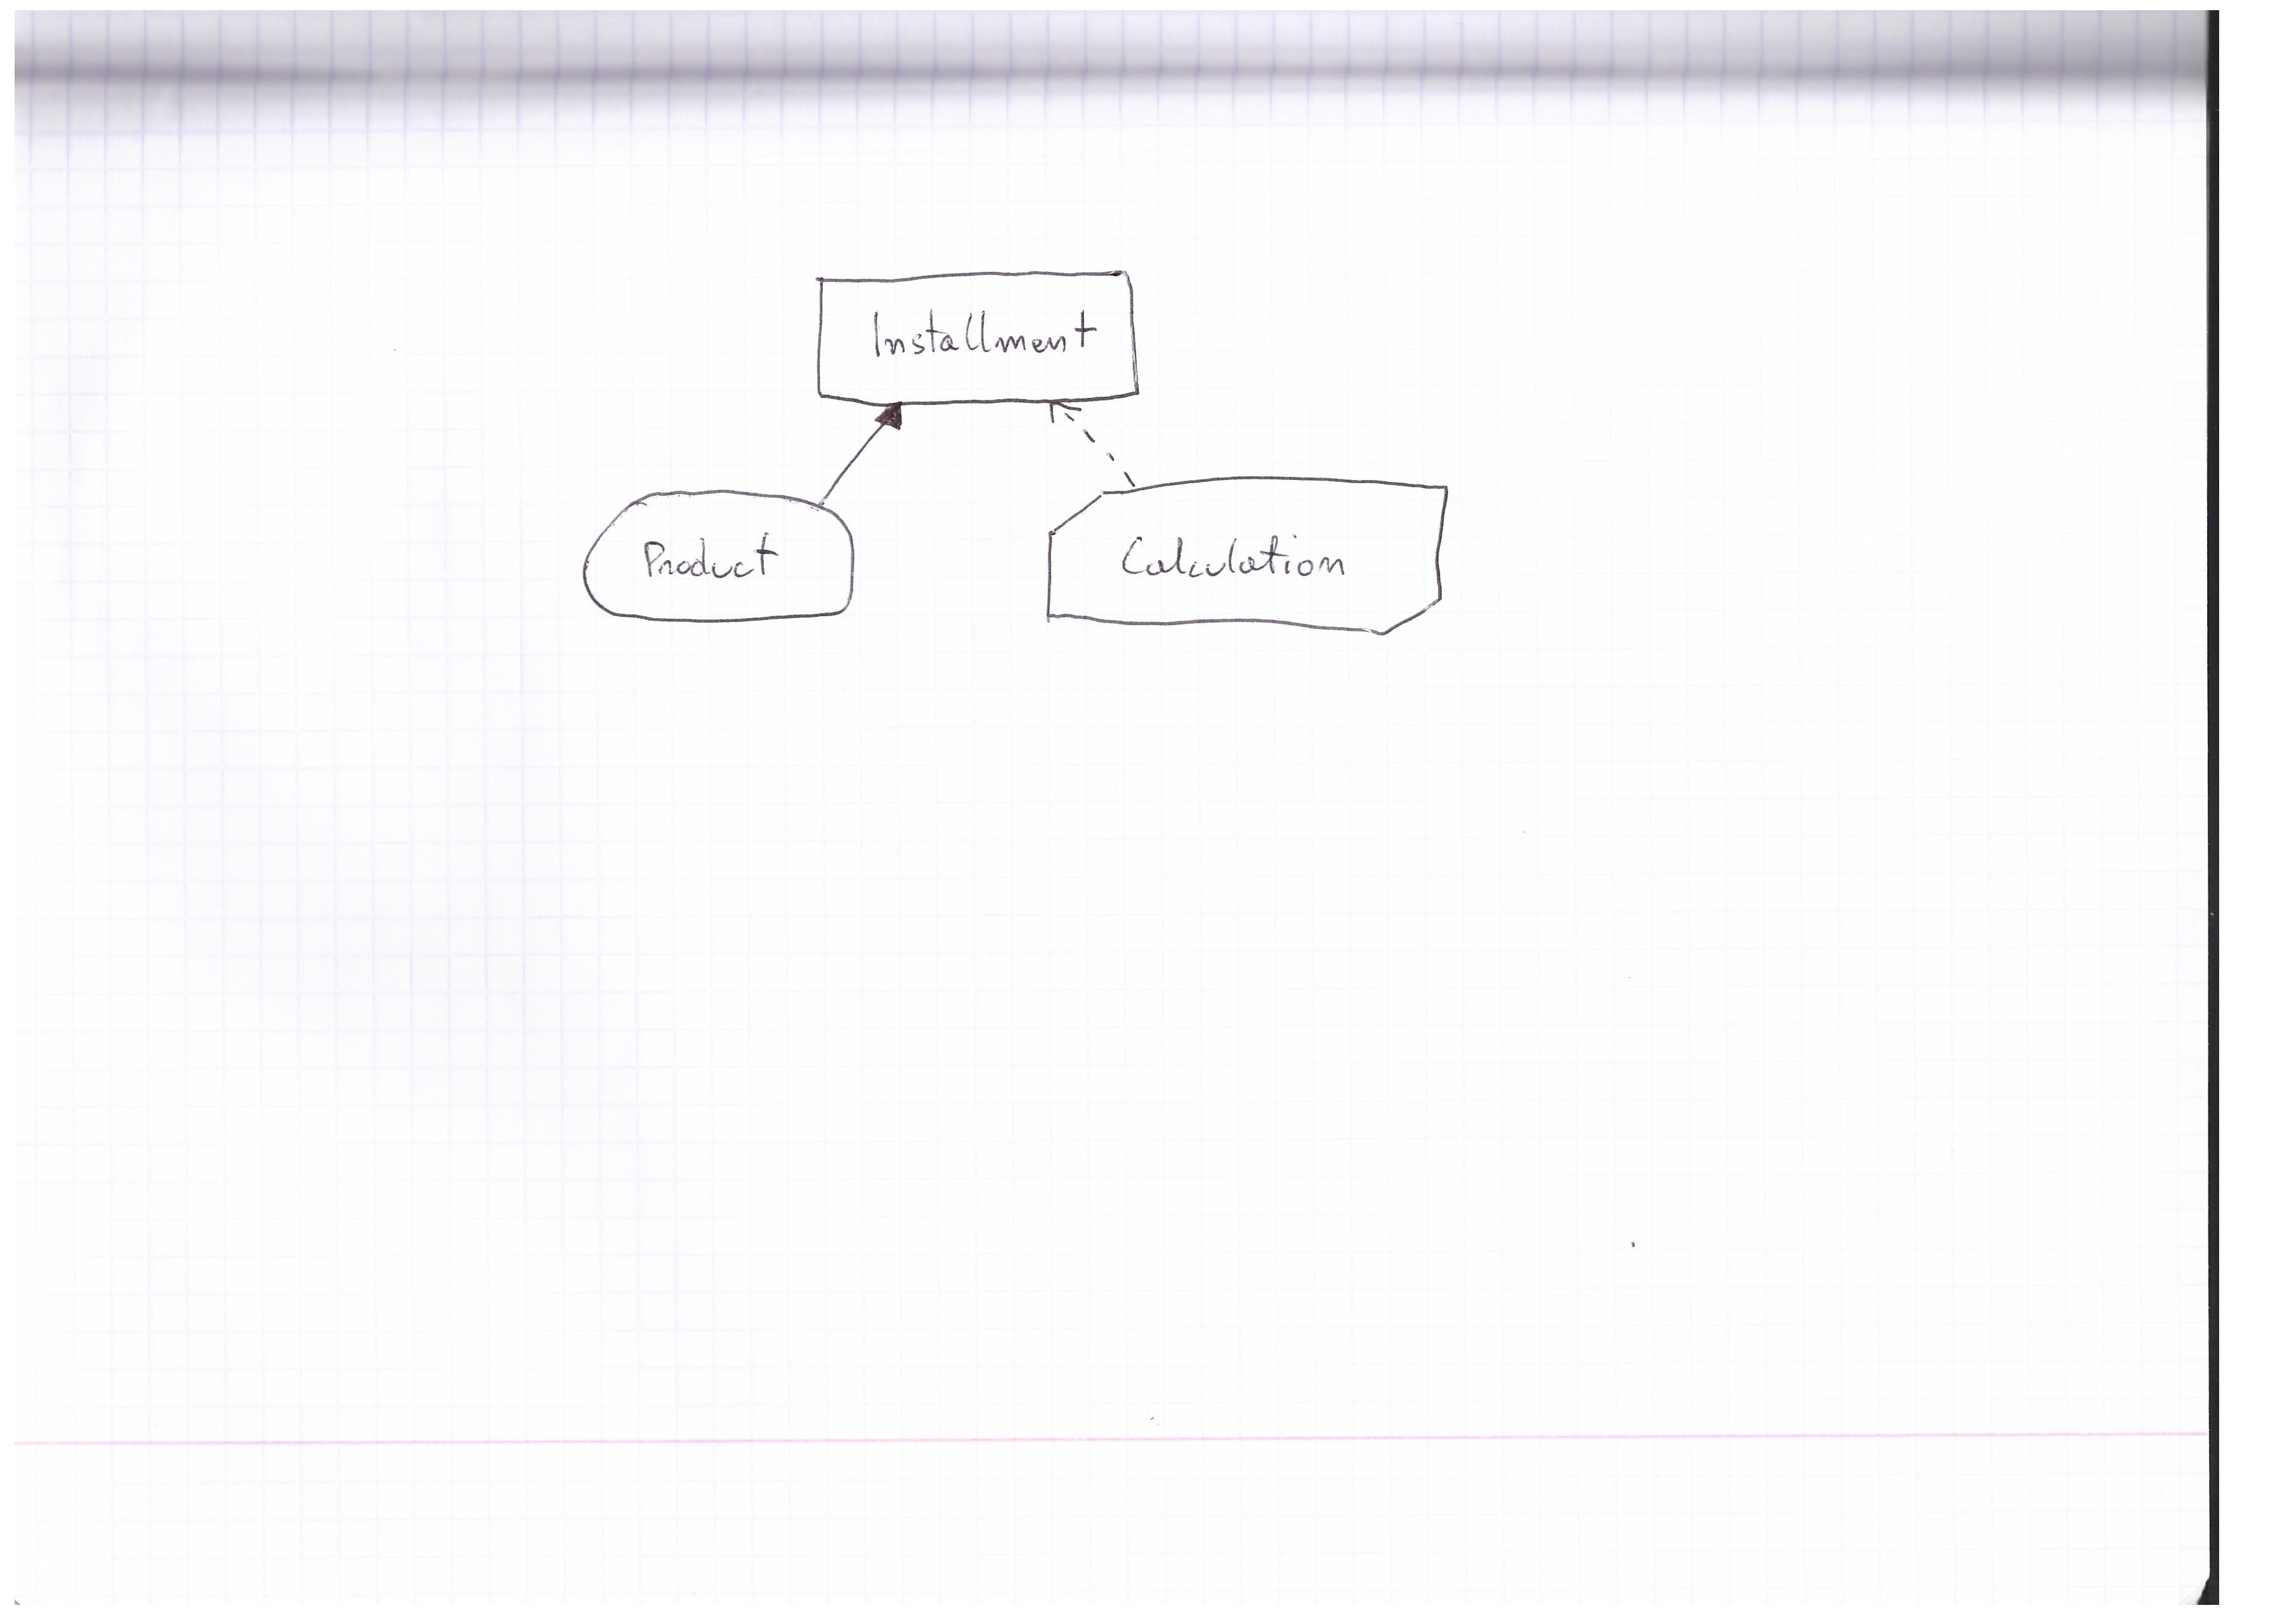arrow_information_requirement: (817, 397, 915, 499)
arrow_knowledge_requirement: (1035, 394, 1140, 490)
node_decision: (805, 262, 1146, 406)
node_input_data: (576, 487, 866, 629)
node_knowledge_model: (1038, 475, 1458, 649)
text: (1109, 520, 1364, 599), (859, 299, 1109, 367), (638, 524, 785, 594)
